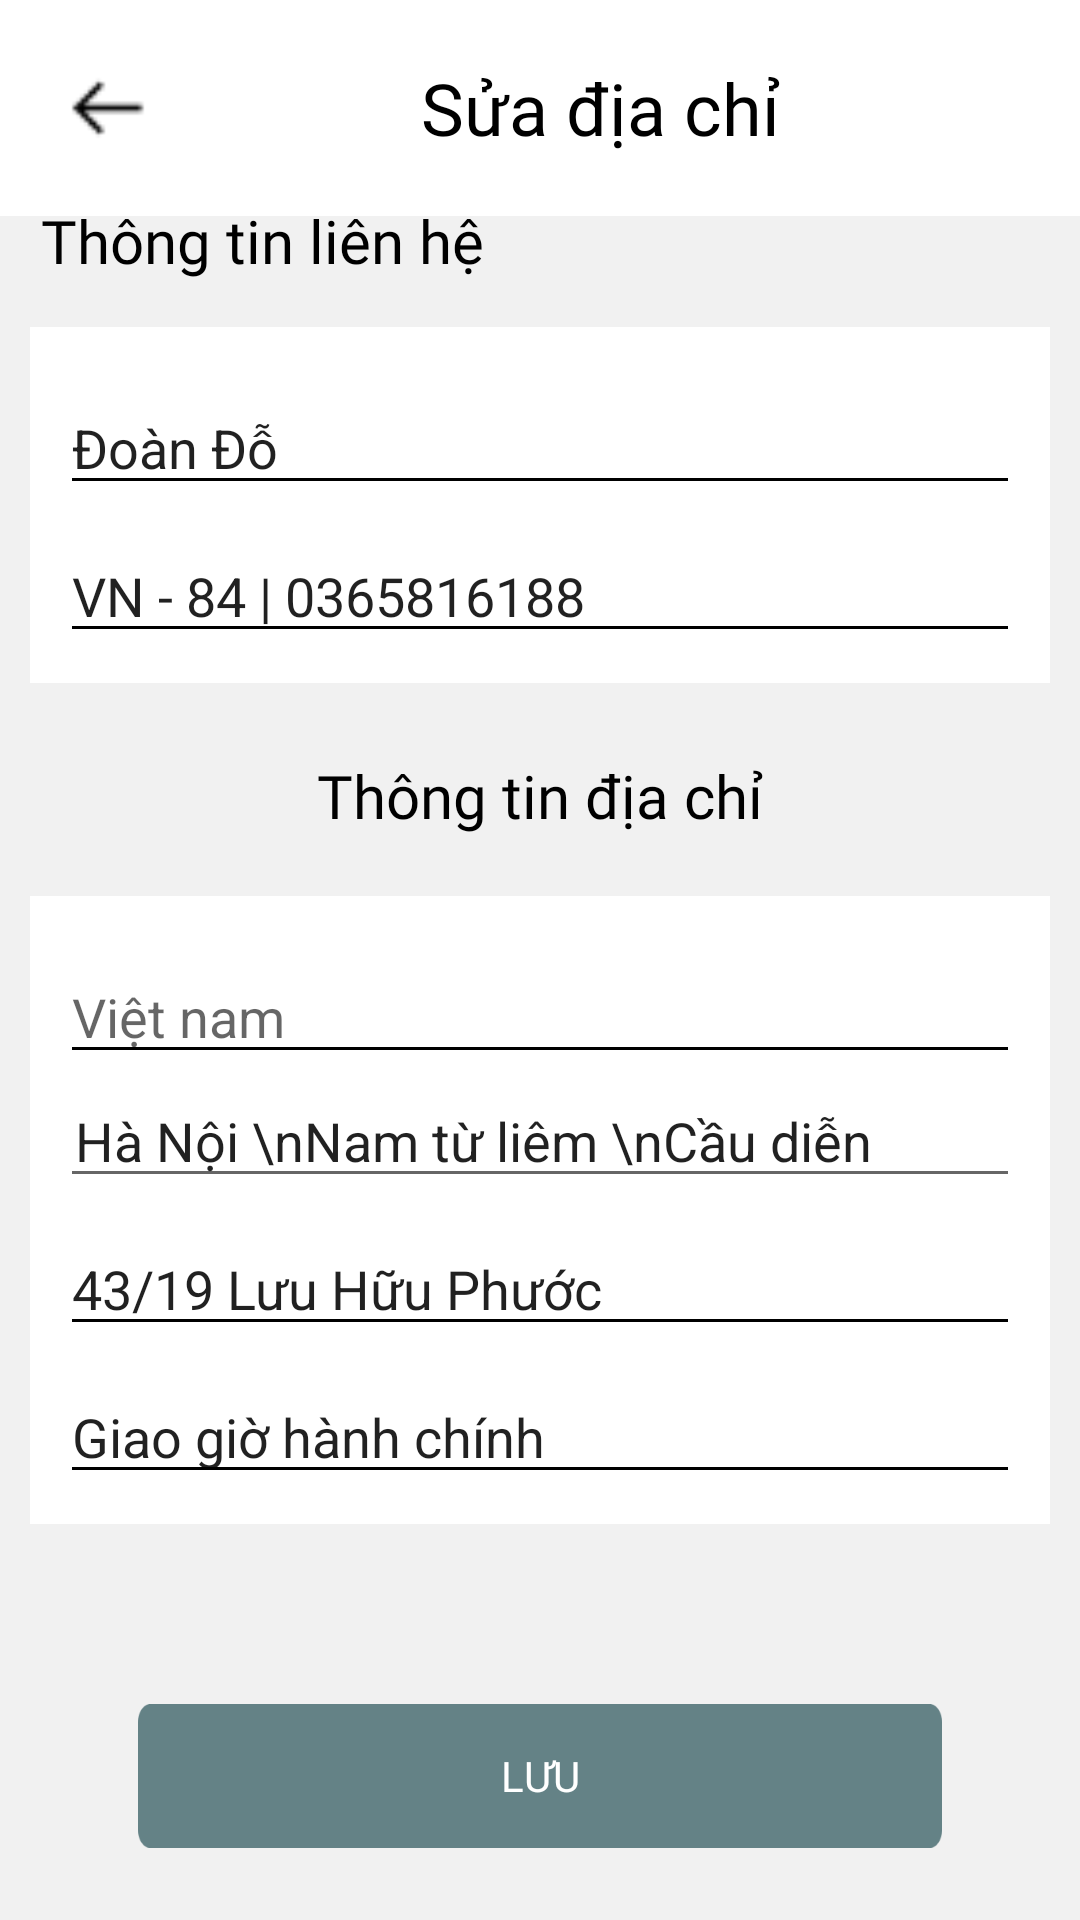

Icon bounding boxes for this 1080w x 1920h phone screenshot, format rect(x1, y1, x2, y2):
Back: rect(72, 81, 144, 135)
